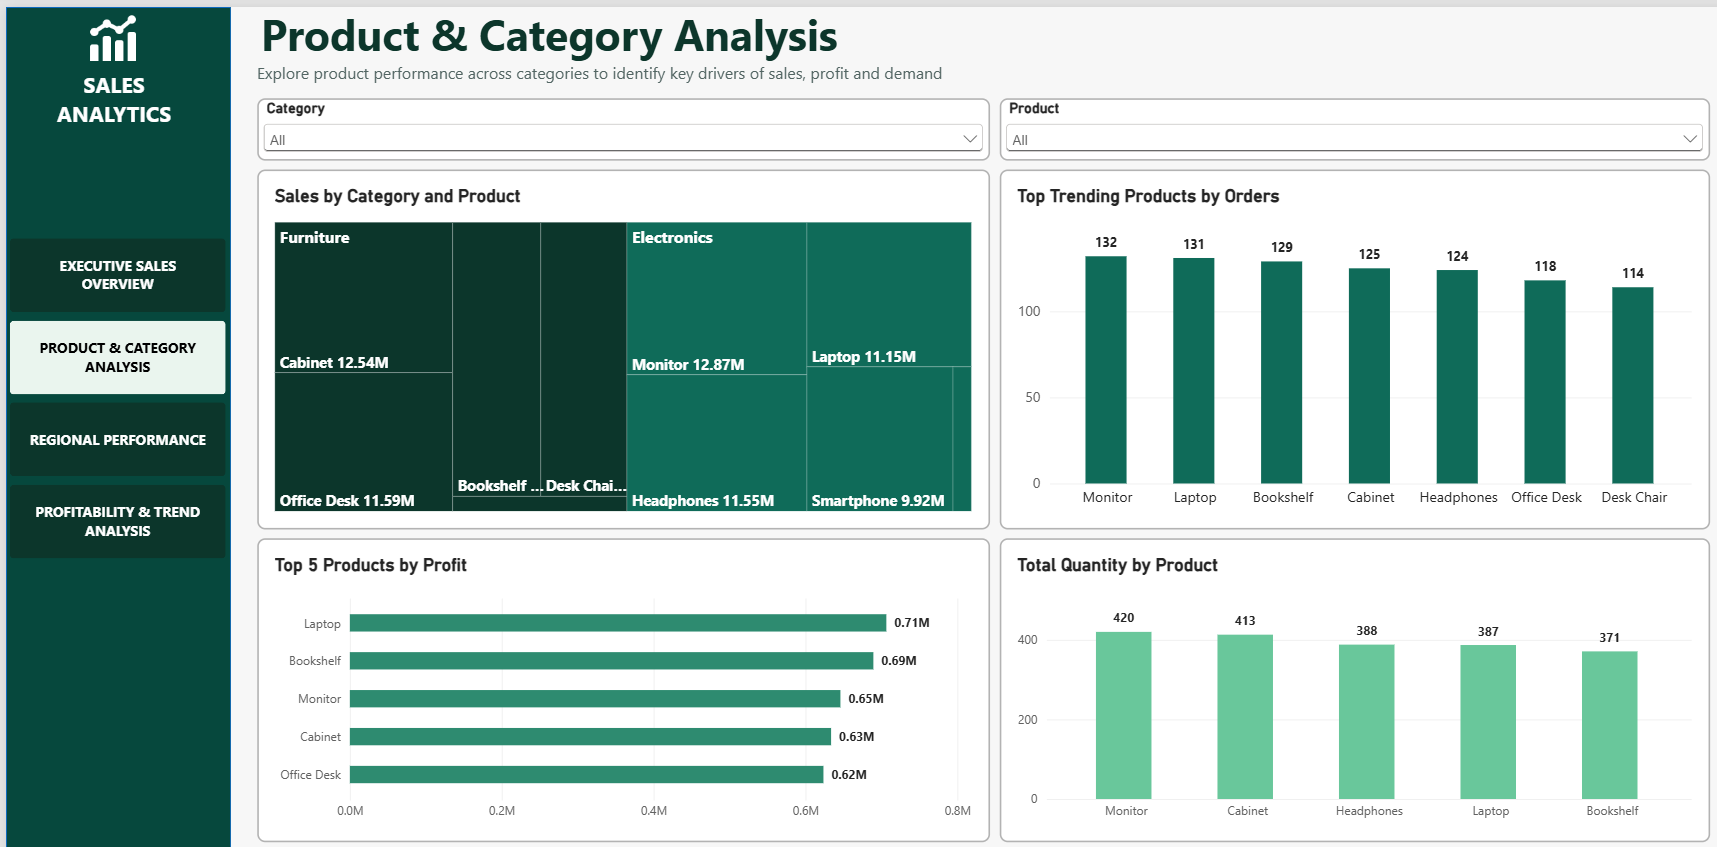

Layout of this report page (visuals, bound fields, positions):
{"tool":"powerbi","page":{"name":" PRODUCT & CATEGORY ANALYSIS","canvas":[1920,1080],"ordinal":2},"visuals":[{"type":"shape","box":[0,0,225,866.2],"z":0},{"type":"image","box":[66.2,0,81.2,62.5],"z":1000},{"type":"textbox","box":[0,62.5,216.2,57.5],"z":2000},{"type":"pageNavigator","box":[3.8,231.2,216.2,321.2],"z":3000},{"type":"textbox","box":[251.2,0,1518.8,76.2],"z":4000},{"type":"slicer","fields":{"Values":["SalesData_1000Rows_WithIssues_copy.Category"]},"box":[251.2,91.2,732.5,62.5],"z":5000},{"type":"slicer","fields":{"Values":["SalesData_1000Rows_WithIssues_copy.Product"]},"box":[993.8,91.2,710,62.5],"z":6000},{"type":"treemap","title":"Sales by Category and Product","fields":{"Group":["SalesData_1000Rows_WithIssues_copy.Category"],"Values":["Sum(SalesData_1000Rows_WithIssues_copy.Sales)"],"Details":["SalesData_1000Rows_WithIssues_copy.Product"]},"box":[251.2,162.5,732.5,360],"z":7000},{"type":"clusteredColumnChart","title":"Top Trending Products by Orders","fields":{"Category":["SalesData_1000Rows_WithIssues_copy.Product"],"Y":["CountNonNull(SalesData_1000Rows_WithIssues_copy.OrderID)"]},"box":[993.8,162.5,710,360],"z":8000},{"type":"clusteredBarChart","title":"Top 5 Products by Profit","fields":{"Category":["SalesData_1000Rows_WithIssues_copy.Product"],"Y":["Sum(SalesData_1000Rows_WithIssues_copy.Profit)"]},"box":[251.2,531.2,732.5,303.8],"z":9000},{"type":"clusteredColumnChart","fields":{"Category":["SalesData_1000Rows_WithIssues_copy.Product"],"Y":["SalesData_1000Rows_WithIssues_copy.Total Quantity"]},"box":[993.8,531.2,710,303.8],"z":10000}]}

Visuals, with their boxes on the page's 1920x1080 design canvas (x1, y1, x2, y2). These are canvas units, not pixel positions in the 1717x847 screenshot, which may show the page scaled, cropped or inside an application window:
shape: box=[0, 0, 225, 866]
image: box=[66, 0, 147, 62]
textbox: box=[0, 62, 216, 120]
pageNavigator: box=[4, 231, 220, 552]
textbox: box=[251, 0, 1770, 76]
slicer - SalesData_1000Rows_WithIssues_copy.Category: box=[251, 91, 984, 154]
slicer - SalesData_1000Rows_WithIssues_copy.Product: box=[994, 91, 1704, 154]
"Sales by Category and Product" treemap: box=[251, 162, 984, 522]
"Top Trending Products by Orders" clusteredColumnChart: box=[994, 162, 1704, 522]
"Top 5 Products by Profit" clusteredBarChart: box=[251, 531, 984, 835]
clusteredColumnChart - SalesData_1000Rows_WithIssues_copy.Product x SalesData_1000Rows_WithIssues_copy.Total Quantity: box=[994, 531, 1704, 835]
